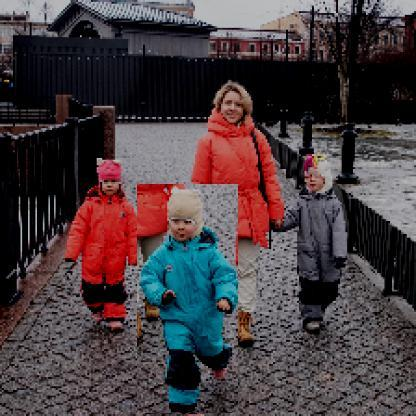child: (139, 185, 241, 415), (64, 158, 142, 331), (277, 152, 350, 334)
